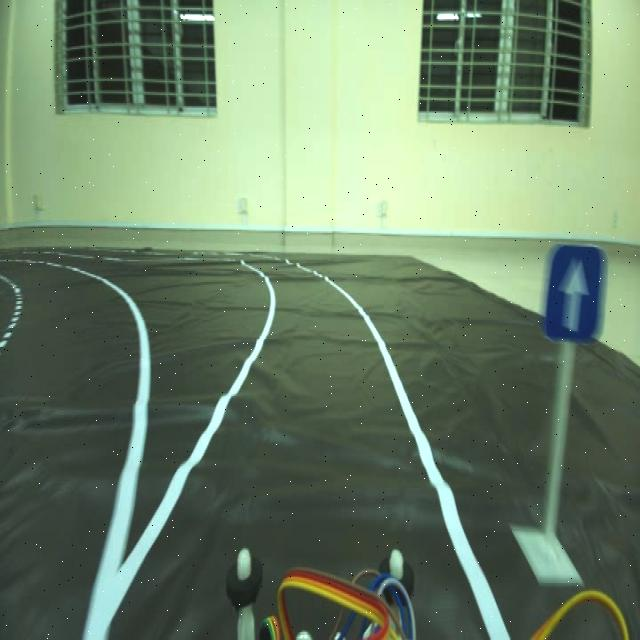onewayroad: (544, 238, 610, 351)
